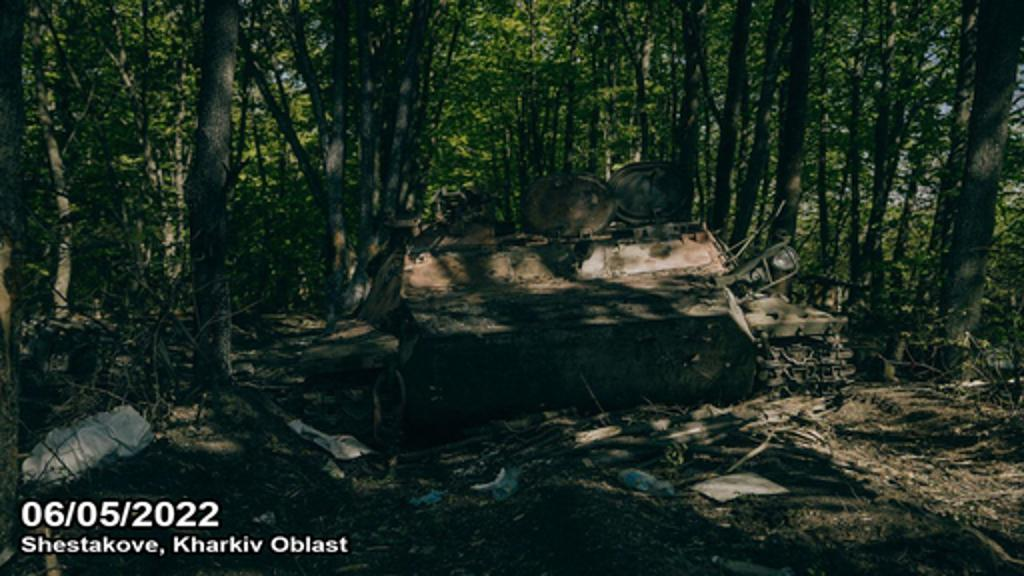APC-IFV: (346, 156, 842, 456)
